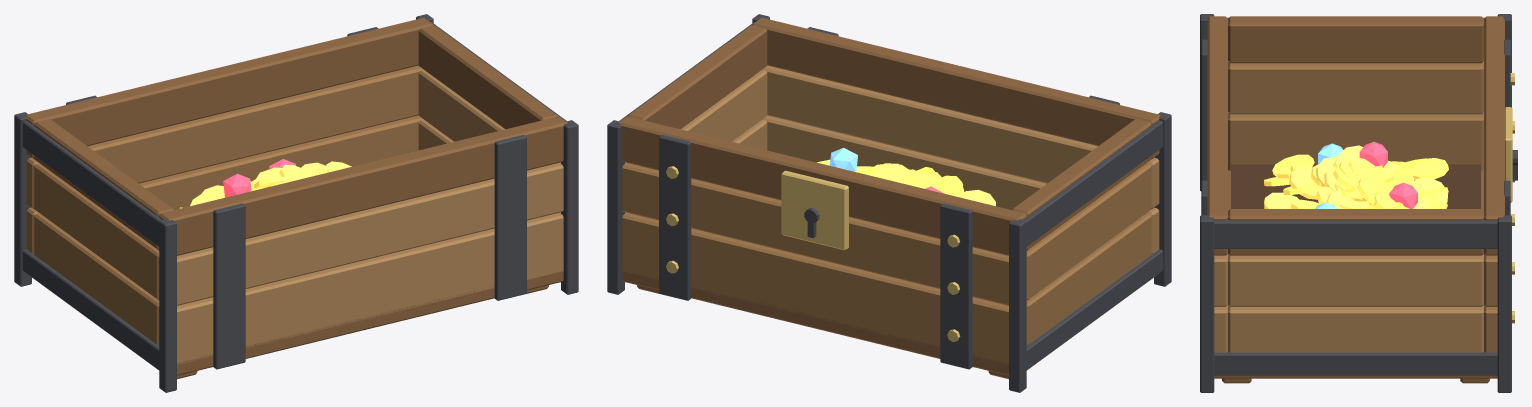
The model's file is truhe_korpus.glb.
3 renders of one model, left to right at view 1: azimuth 30°, elevation 25°; view 2: azimuth 150°, elevation 25°; view 3: azimuth 270°, elevation 25°, orthographic. The views are drawn at different scales.
Visible parts, largest first — view 1: Truhe_Korpus; view 2: Truhe_Korpus; view 3: Truhe_Korpus.
Boxes of the visible parts, <box> form: Truhe_Korpus: <box>14,14,578,392</box>; Truhe_Korpus: <box>607,14,1171,392</box>; Truhe_Korpus: <box>1200,14,1517,392</box>.
Bounding box in the file's own units: 0.824 × 0.322 × 0.534.
